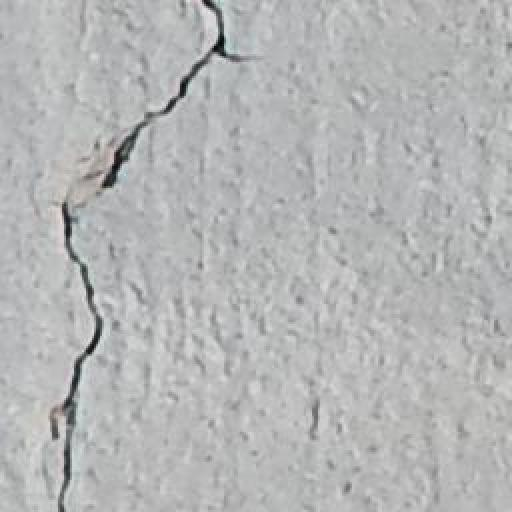spalling: (38, 5, 242, 505)
